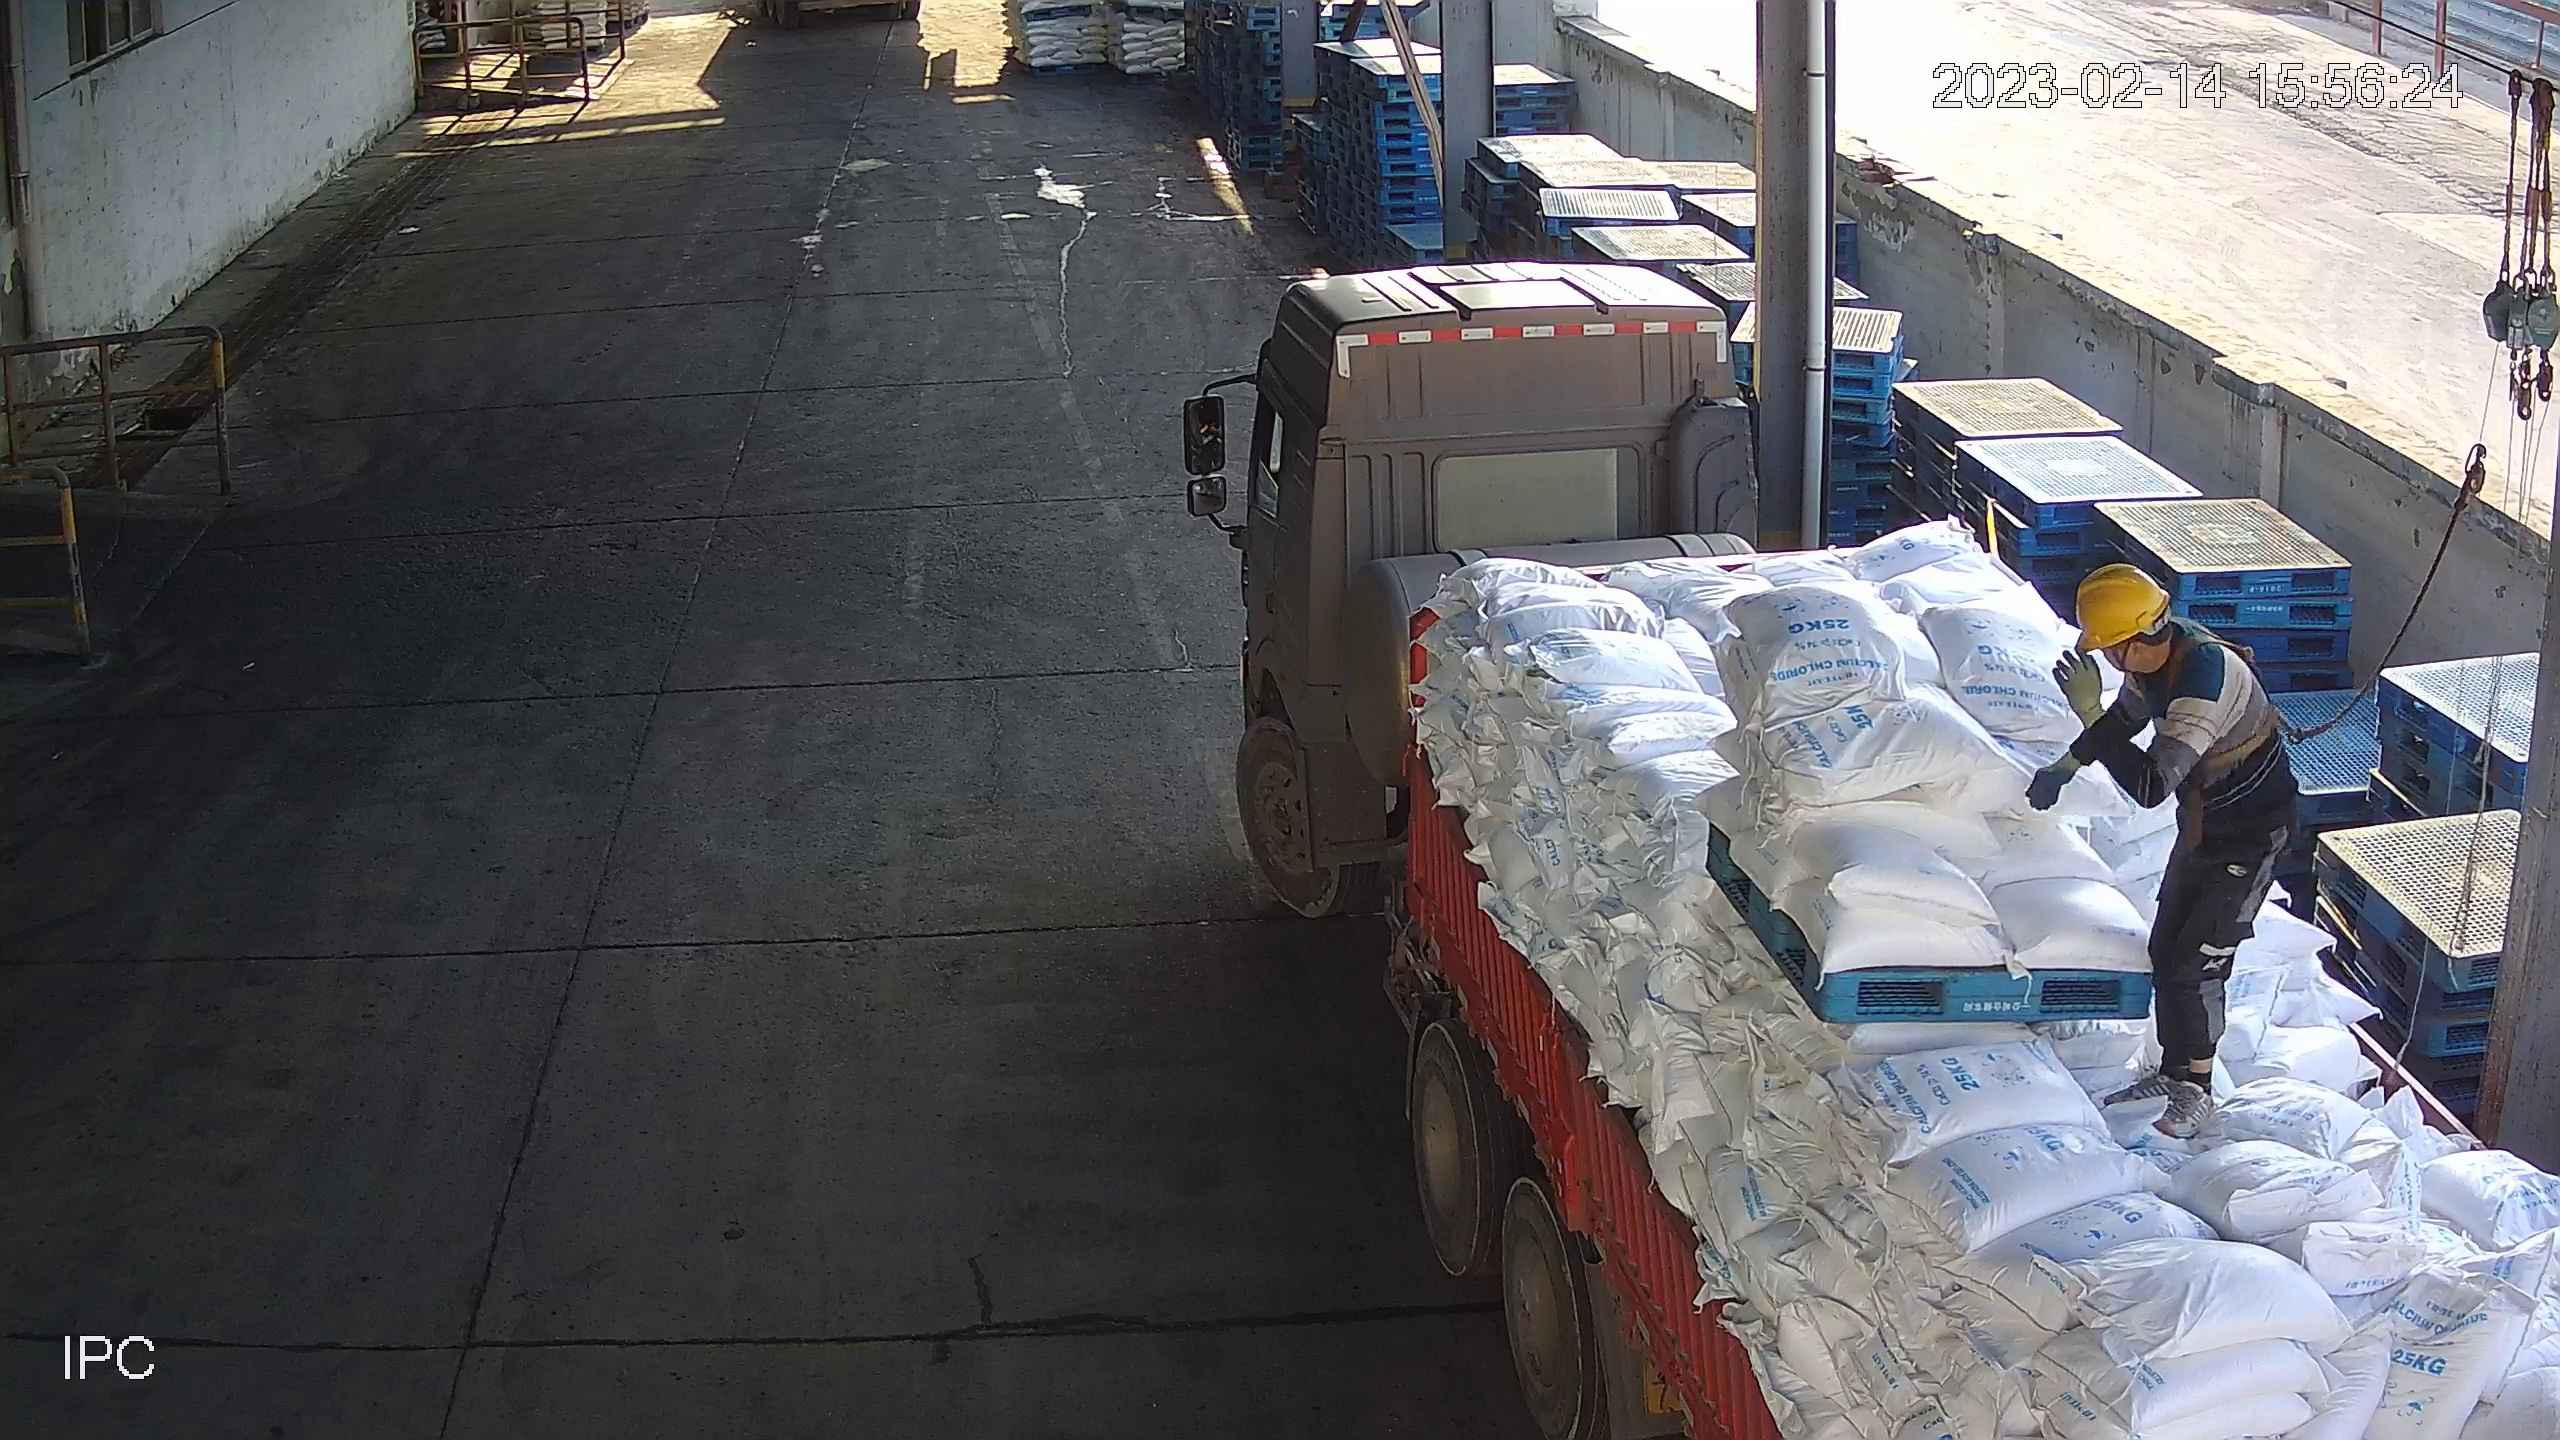belt: (2142, 618, 2330, 773)
head: (2063, 560, 2261, 711)
helmet: (2071, 561, 2173, 650)
people: (2023, 560, 2301, 1138)
truck: (1230, 257, 2560, 1440)
